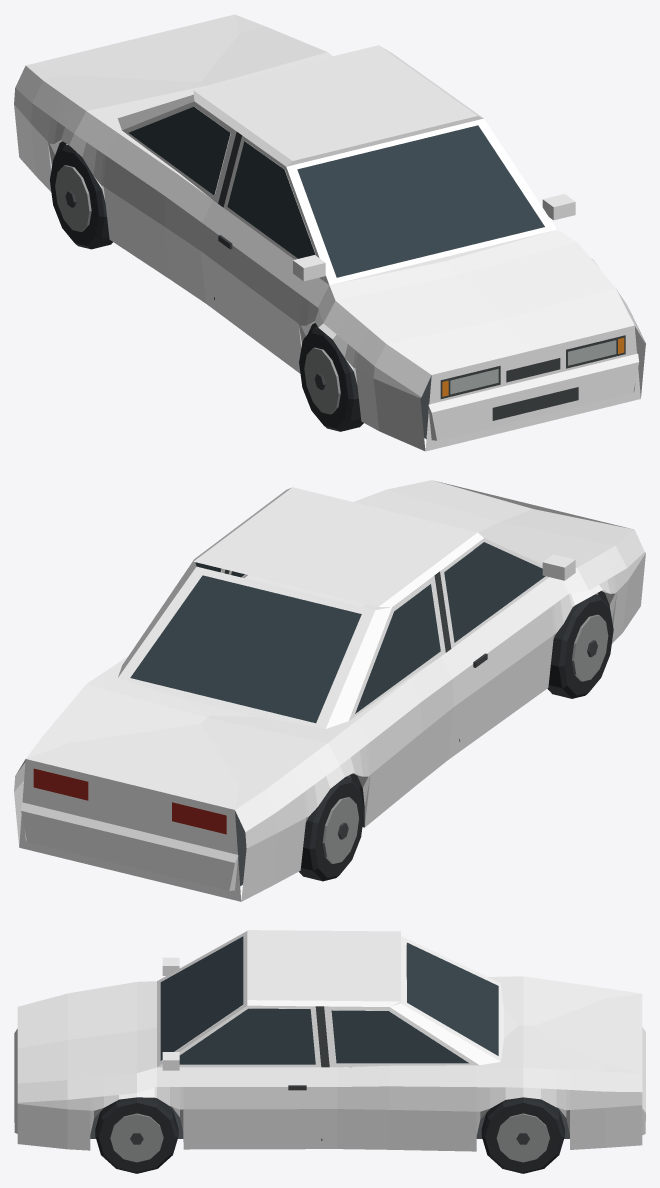
The model's file is kanaya_murasame_gt.glb.
3 views of the same model, one above another, from view 1: azimuth 30°, elevation 25°; view 2: azimuth 150°, elevation 25°; view 3: azimuth 270°, elevation 25° (orthographic). The views are drawn at different scales.
Visible parts, largest first — view 1: kanaya_murasame_gt; view 2: kanaya_murasame_gt; view 3: kanaya_murasame_gt.
Boxes of the visible parts, box(x1,y1,x2,y2) form: kanaya_murasame_gt: box(14, 14, 645, 451); kanaya_murasame_gt: box(14, 480, 645, 901); kanaya_murasame_gt: box(14, 930, 645, 1173).
Size of the model in its own units: 1.75 by 1.25 by 4.48.
Materials: 8 (1 with a texture image).
